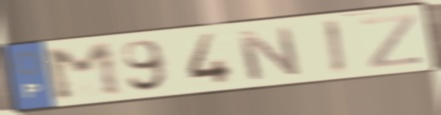4: (184, 31, 237, 87)
9: (121, 39, 172, 93)
I: (320, 17, 350, 77)
M: (41, 40, 128, 104)
N: (233, 24, 305, 83)
Z: (360, 12, 425, 71)
